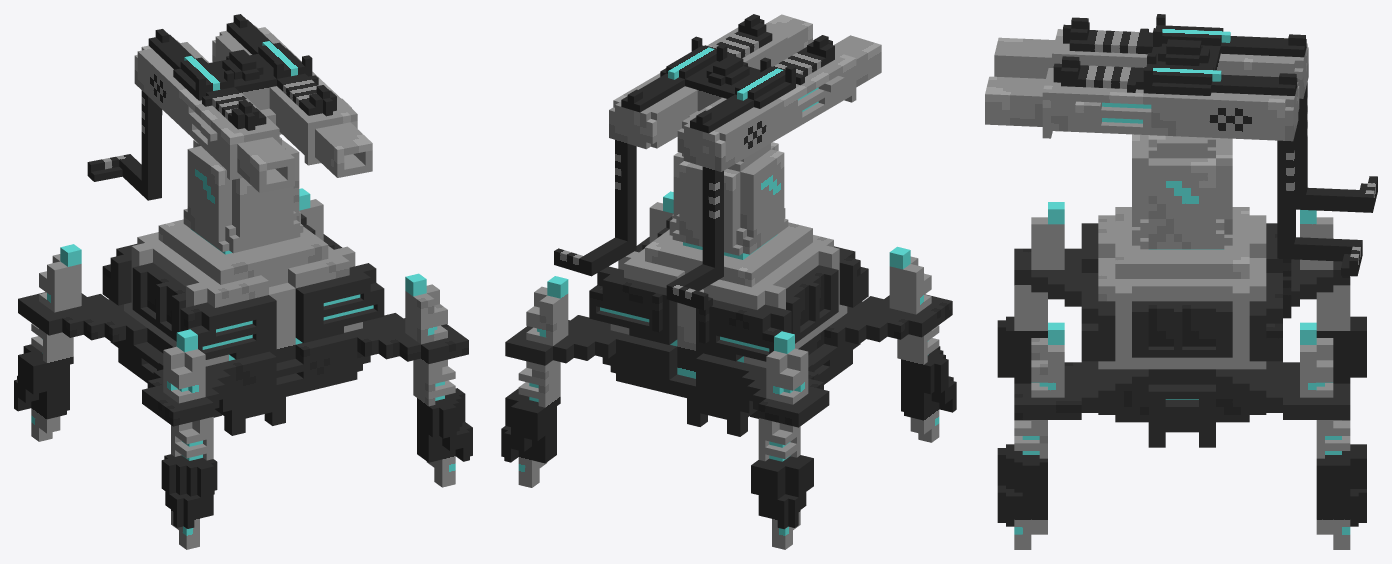
File: robot_final.gltf
3 views of the same model, side by side, from view 1: azimuth 30°, elevation 25°; view 2: azimuth 150°, elevation 25°; view 3: azimuth 270°, elevation 25° (orthographic). The views are drawn at different scales.
Visible parts, largest first — view 1: body-Local, head-Local; view 2: body-Local, head-Local; view 3: body-Local, head-Local.
Boxes of the visible parts, left/top/right/bottom form: body-Local: left=14, top=137, right=472, bottom=549; head-Local: left=87, top=14, right=372, bottom=200; body-Local: left=501, top=142, right=956, bottom=549; head-Local: left=554, top=14, right=881, bottom=310; body-Local: left=997, top=134, right=1366, bottom=549; head-Local: left=985, top=14, right=1377, bottom=276.
Size of the model in its own units: 44 by 57.23 by 46.8.
2 materials, 2 textured.
